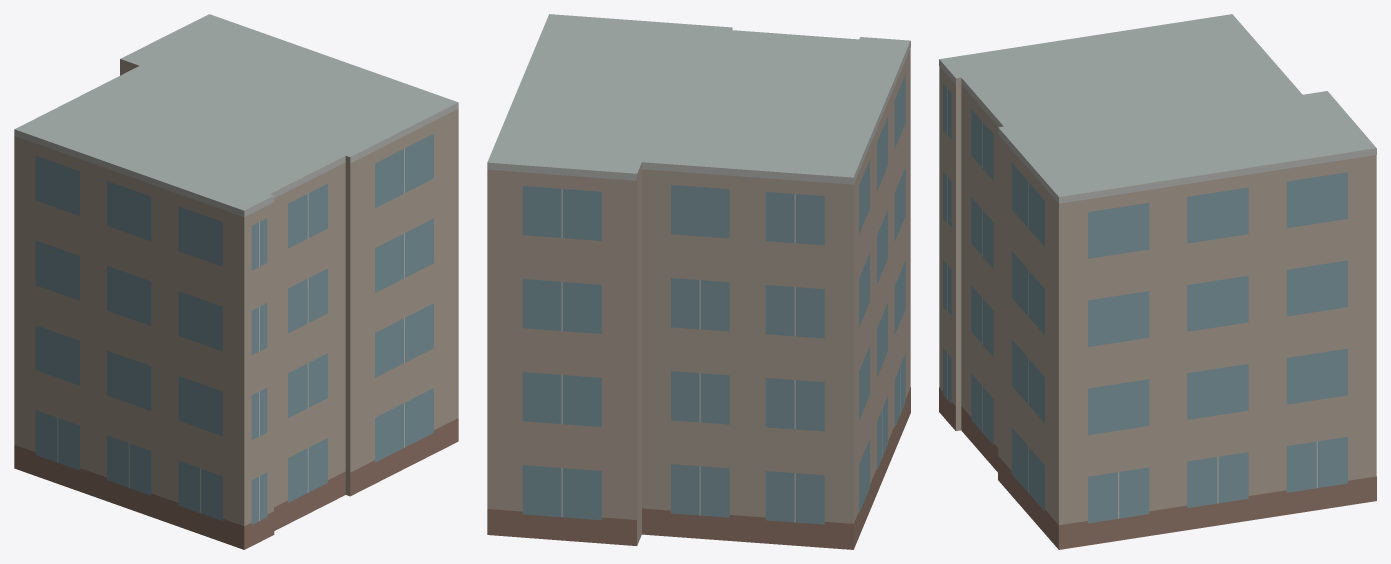
File: survey-upis-32623451.glb
The picture shows the model from 3 angles, left to right: view 1: azimuth 30°, elevation 25°; view 2: azimuth 150°, elevation 25°; view 3: azimuth 270°, elevation 25°; orthographic projection. The views are drawn at different scales.
Parts seen in each view (by area): view 1: survey-upis-32623451.tmp; view 2: survey-upis-32623451.tmp; view 3: survey-upis-32623451.tmp.
Part boxes in pixels (left/top/right/bottom): survey-upis-32623451.tmp: left=14, top=14, right=458, bottom=549; survey-upis-32623451.tmp: left=487, top=14, right=910, bottom=549; survey-upis-32623451.tmp: left=939, top=14, right=1376, bottom=549.
Bounding box in the file's own units: 14.42 × 12.95 × 14.57.
